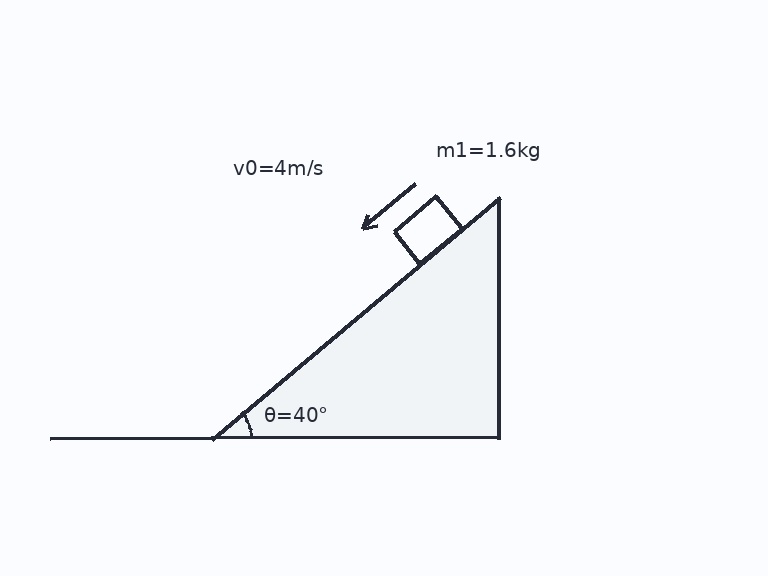block: (391, 194, 464, 265)
ramp: (209, 195, 500, 440)
